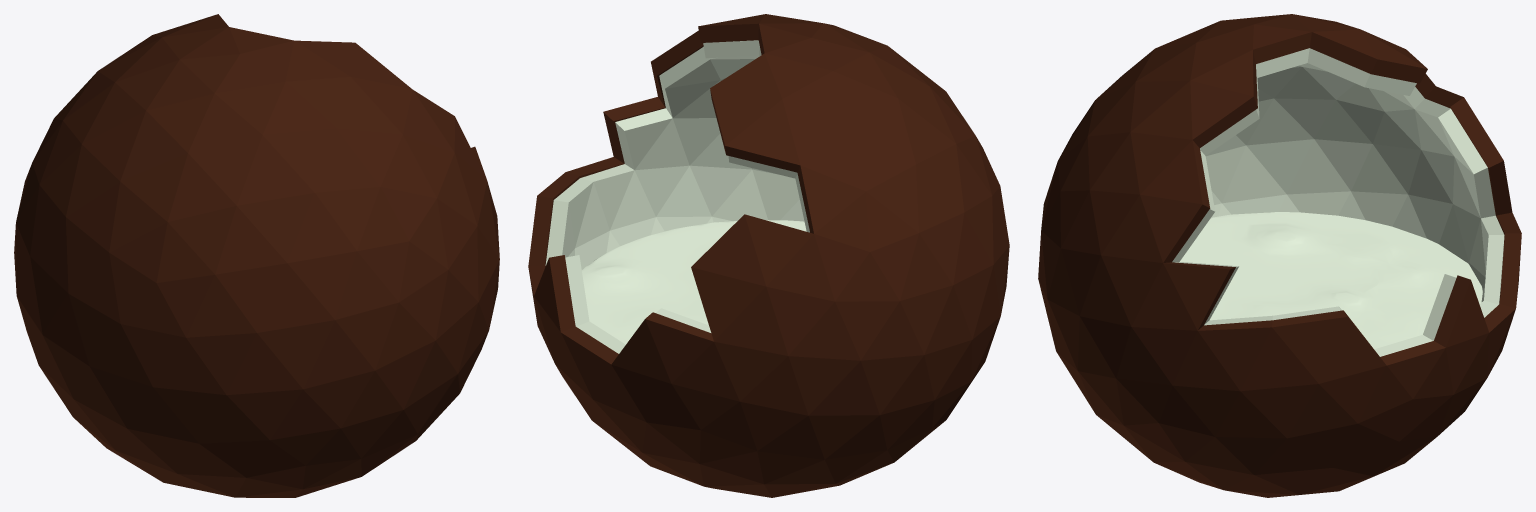
The model's file is coconut2.fbx.
3 renders of one model, left to right at view 1: azimuth 30°, elevation 25°; view 2: azimuth 150°, elevation 25°; view 3: azimuth 270°, elevation 25°, orthographic.
Visible parts, largest first — view 1: outside; view 2: outside, inside, liquid; view 3: outside, inside, liquid.
Part boxes in pixels (box(x1,y1,x2,y2)): outside: box(14, 14, 499, 497); outside: box(528, 14, 1009, 497); inside: box(545, 40, 809, 353); liquid: box(582, 220, 806, 344); outside: box(1038, 14, 1521, 497); inside: box(1172, 48, 1504, 356); liquid: box(1180, 212, 1482, 349).
Bounding box in the file's own units: 198 × 198 × 199.
